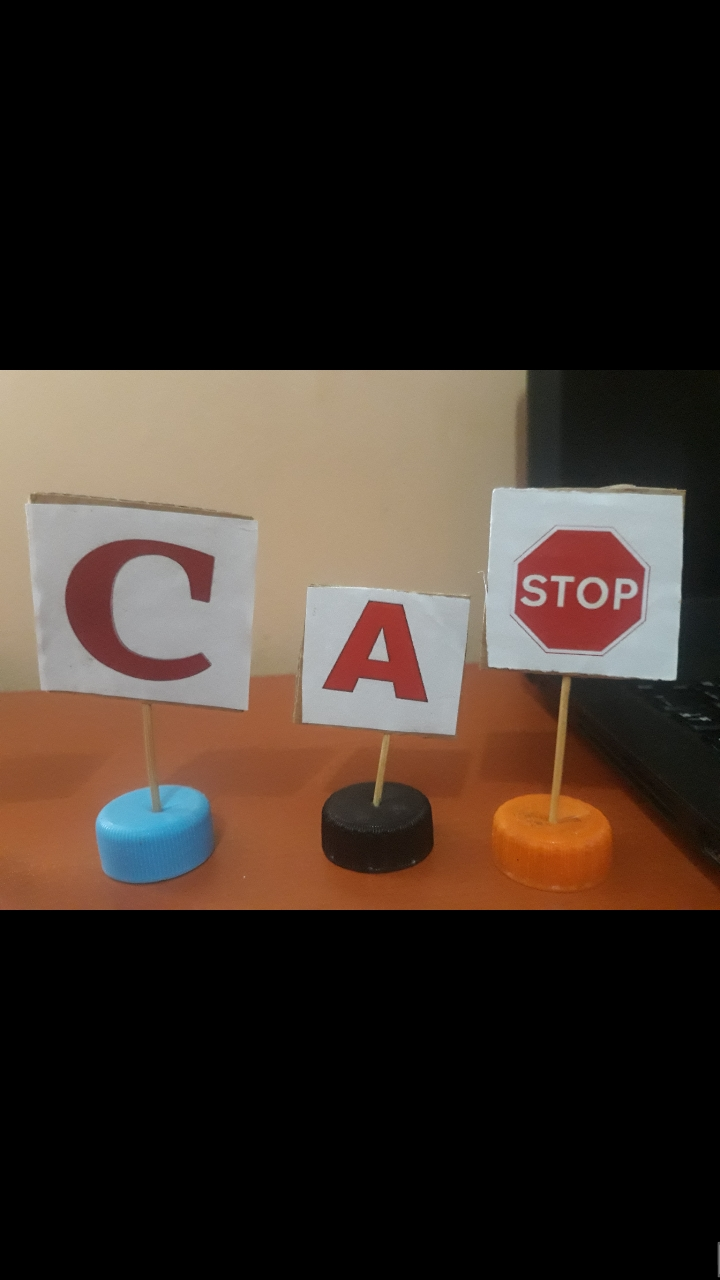stop: (504, 492, 681, 678)
zone A: (318, 584, 446, 733)
zone C: (36, 502, 246, 708)
